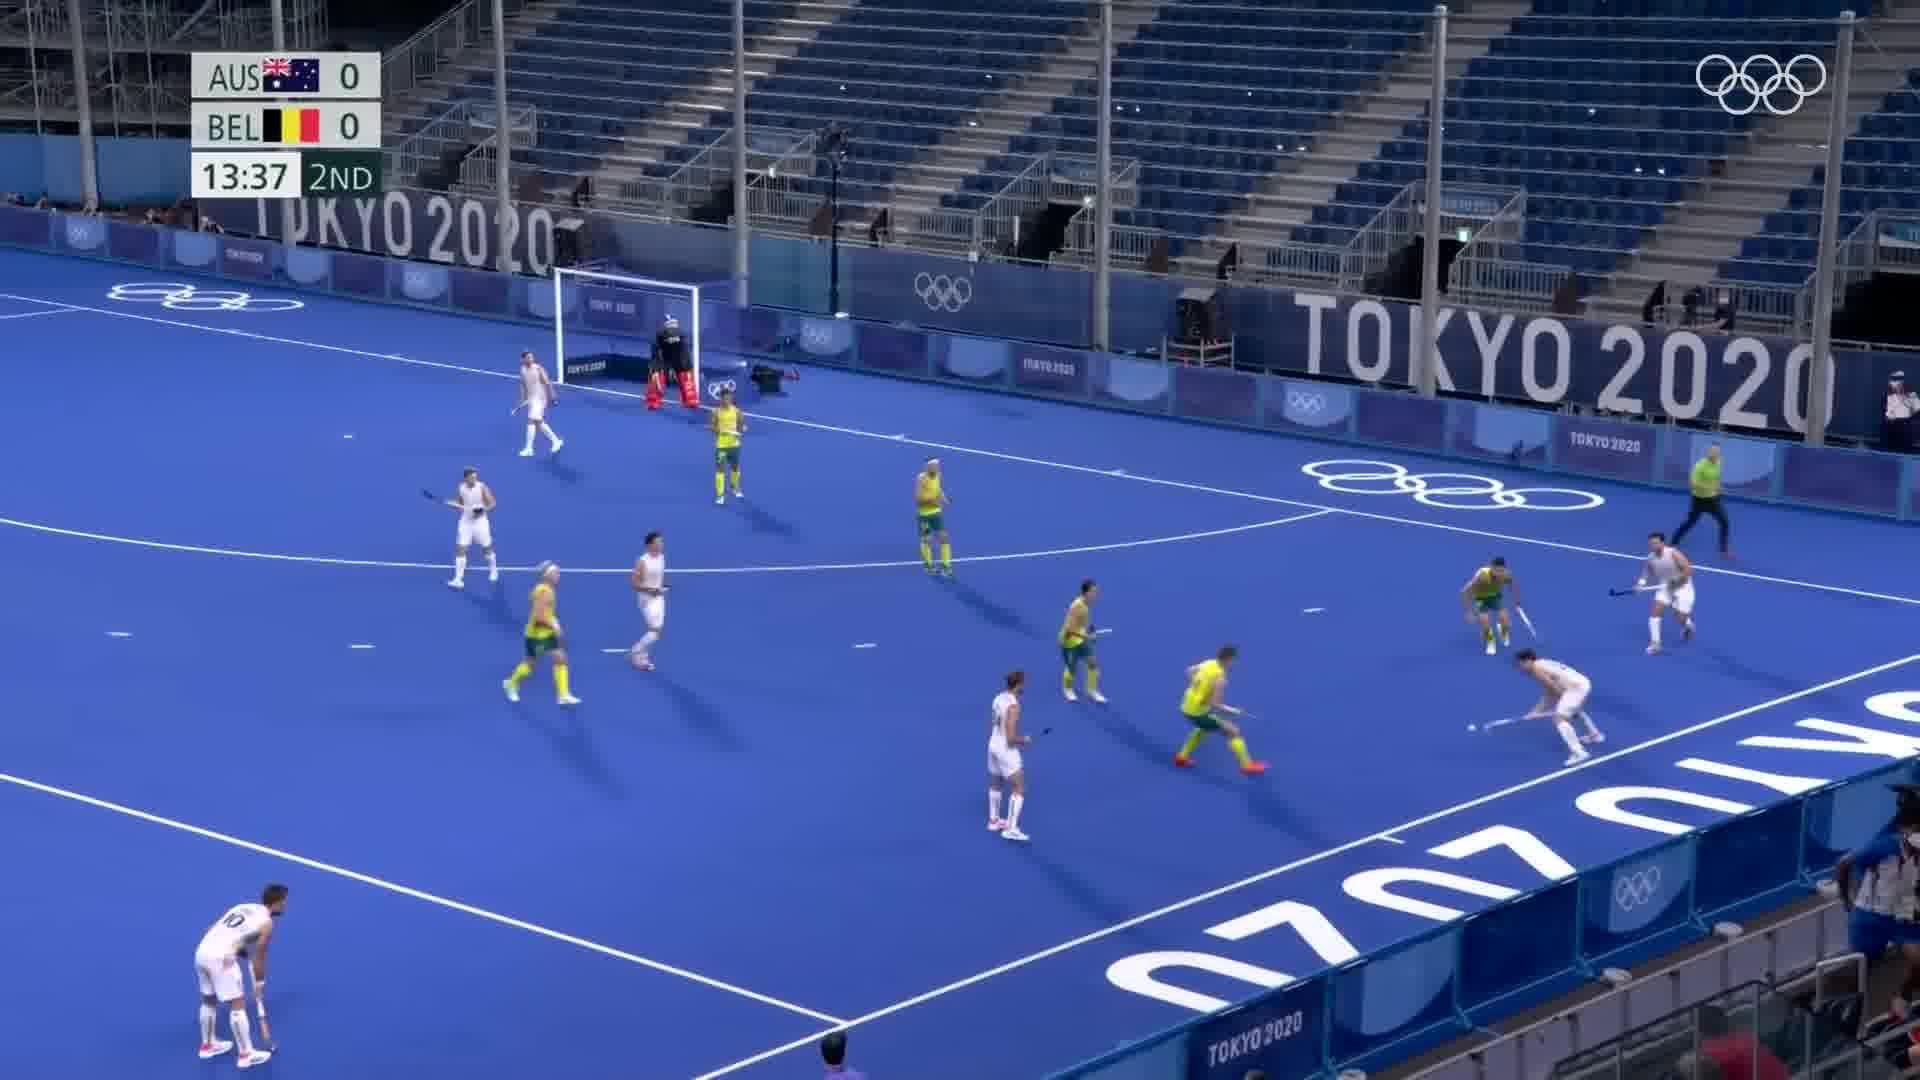ball: (1459, 719, 1480, 740)
